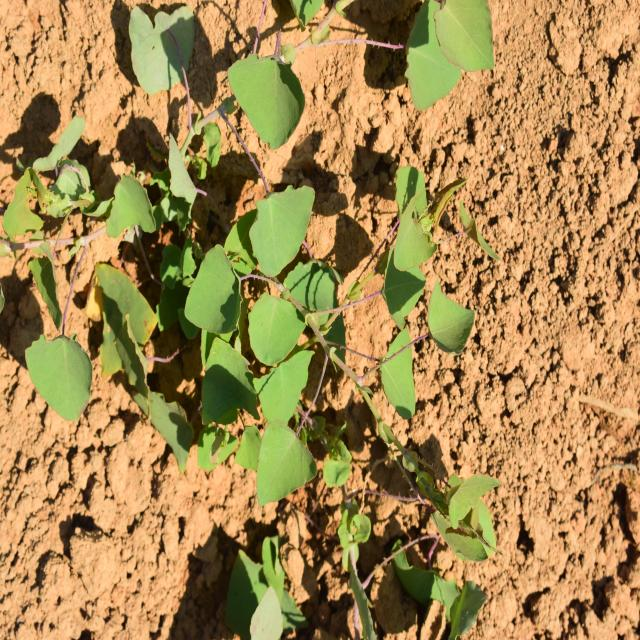Asiatic_Smartweed: (174, 174, 329, 494), (363, 178, 470, 471), (396, 0, 493, 110), (225, 44, 316, 159), (25, 306, 97, 434)
